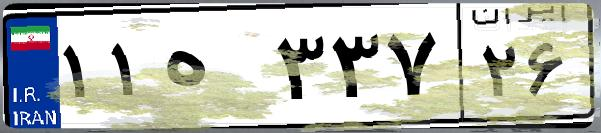1: (57, 26, 110, 100), (110, 28, 158, 98)
2: (475, 38, 525, 113)
3: (270, 28, 330, 110), (330, 28, 385, 110)
6: (525, 38, 570, 115)
7: (385, 28, 445, 110)
ه: (158, 20, 270, 120)
